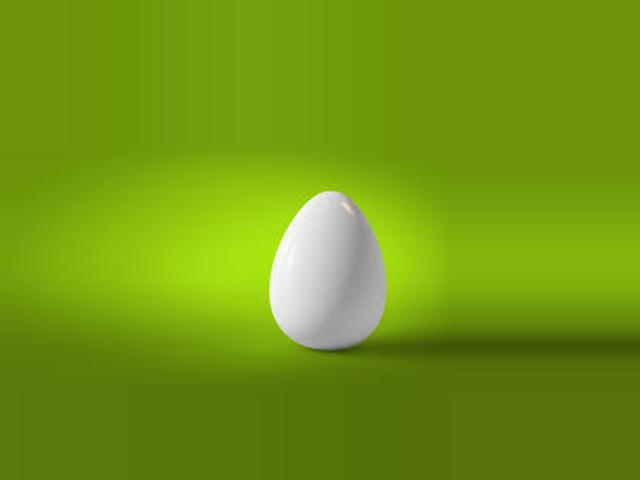egg: (269, 188, 386, 349)
